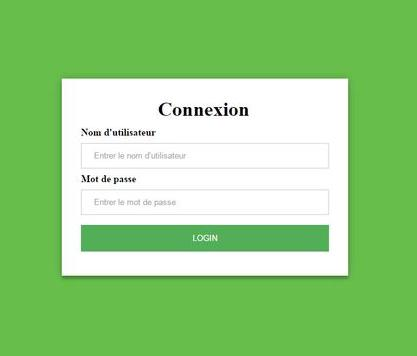field: (81, 141, 332, 170), (77, 188, 330, 216), (79, 224, 331, 252)
field_with_label: (75, 173, 332, 218), (78, 126, 333, 171)
